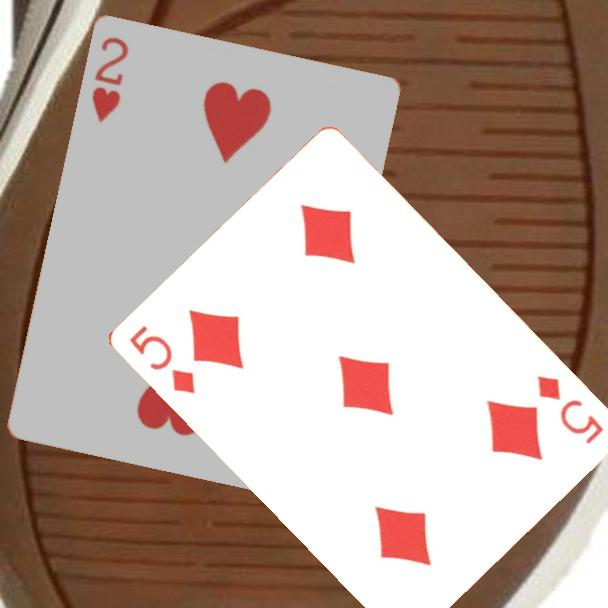d05: (532, 372, 606, 448), (125, 321, 198, 397)
h02: (88, 34, 132, 127)
